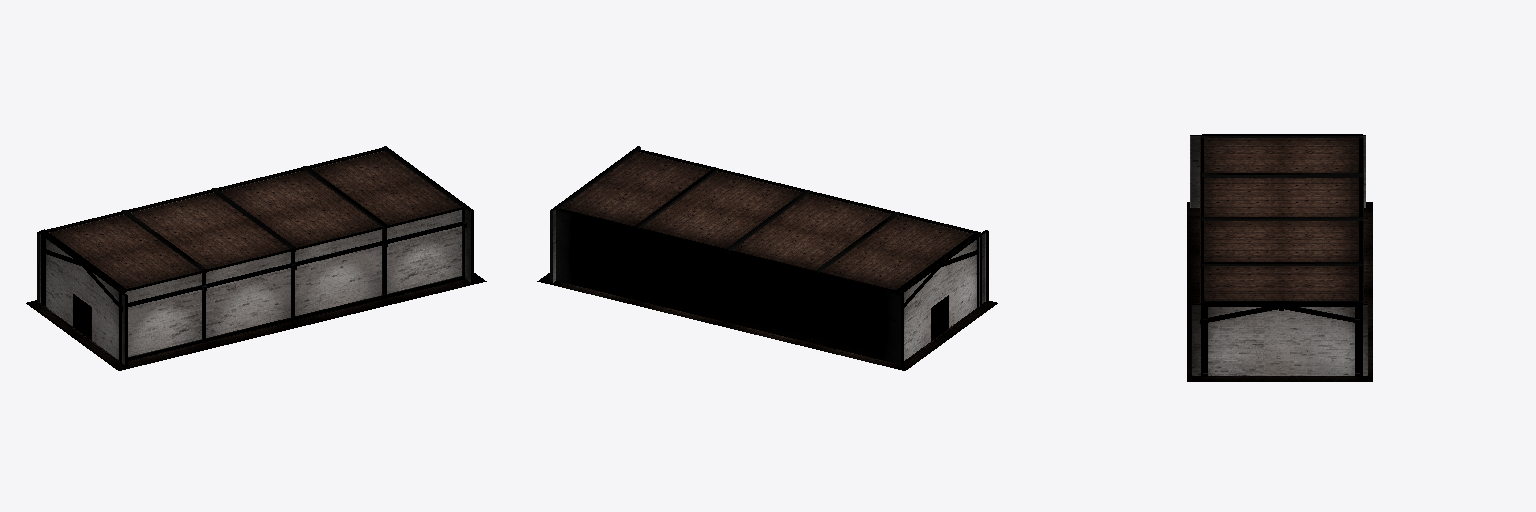
3 views of the same model, side by side, from view 1: azimuth 30°, elevation 25°; view 2: azimuth 150°, elevation 25°; view 3: azimuth 270°, elevation 25° (orthographic).
Parts seen in each view (by area): view 1: Box005, Cylinder013; view 2: Box005, Cylinder013; view 3: Box005, Cylinder013.
Boxes of the visible parts, x1=… form: Box005: x1=26, y1=148, x2=486, y2=370; Cylinder013: x1=41, y1=146, x2=466, y2=360; Box005: x1=537, y1=146, x2=997, y2=370; Cylinder013: x1=554, y1=148, x2=979, y2=361; Box005: x1=1187, y1=135, x2=1372, y2=381; Cylinder013: x1=1200, y1=134, x2=1362, y2=376.
Bounding box in the file's own units: 53.23 × 10.35 × 23.38.
Materials: 3 (3 with a texture image).